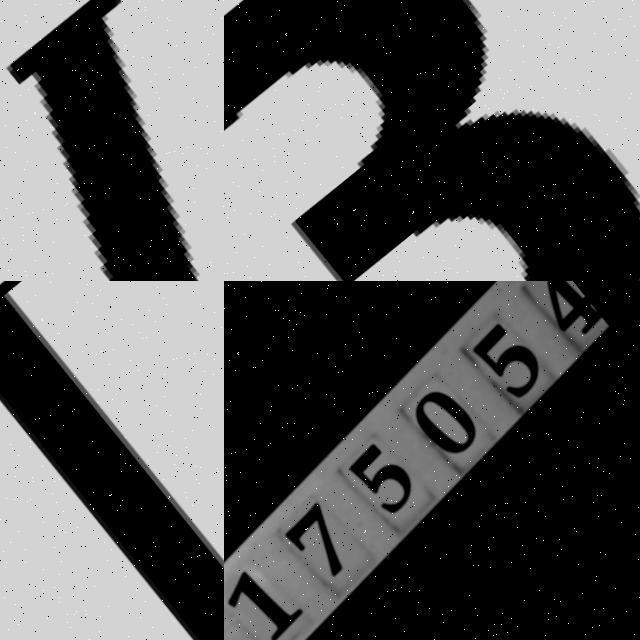0: (389, 365, 498, 476)
1: (224, 546, 314, 640)
3: (224, 0, 640, 281)
4: (514, 281, 609, 353)
5: (458, 308, 560, 412), (331, 426, 432, 529)
7: (266, 482, 378, 598)
I: (7, 0, 209, 281)
L: (0, 281, 224, 640)
